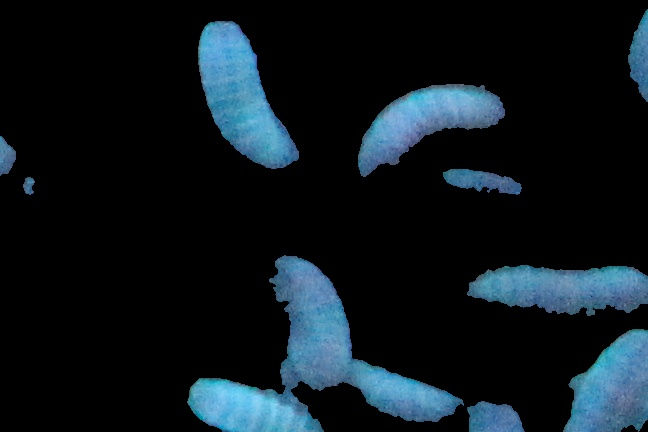larvae: (198, 28, 310, 164), (353, 81, 500, 172), (565, 319, 648, 432), (278, 260, 350, 388), (464, 264, 648, 312), (181, 368, 315, 432), (353, 354, 459, 424), (424, 156, 532, 203)
